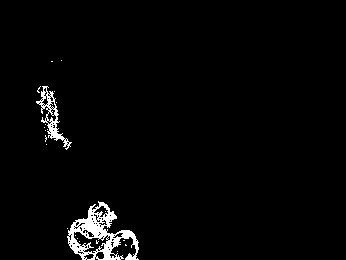person: (70, 198, 116, 260), (37, 85, 69, 151)
